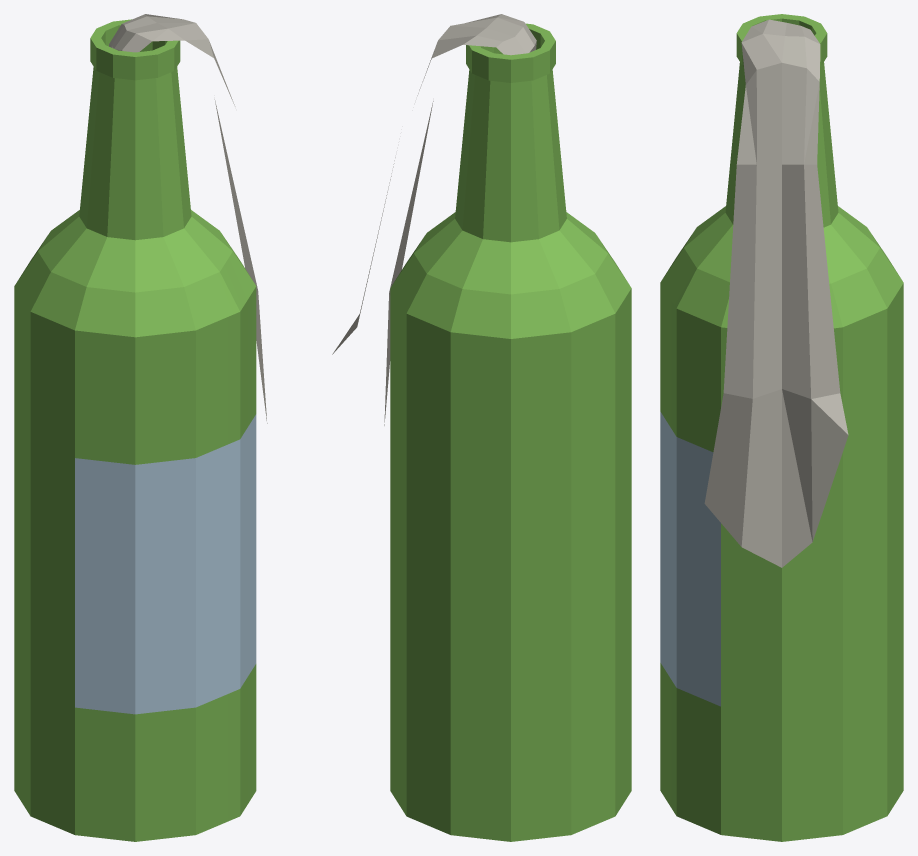
3 renders of one model, left to right at view 1: azimuth 30°, elevation 25°; view 2: azimuth 150°, elevation 25°; view 3: azimuth 270°, elevation 25°, orthographic.
Parts seen in each view (by area): view 1: Molotov; view 2: Molotov; view 3: Molotov.
Boxes of the visible parts, bbox=[...] form: Molotov: bbox=[14, 14, 267, 841]; Molotov: bbox=[332, 14, 631, 841]; Molotov: bbox=[660, 14, 903, 841].
Bounding box in the file's own units: 0.1202 × 0.348 × 0.1.
Materials: 1 (1 with a texture image).
